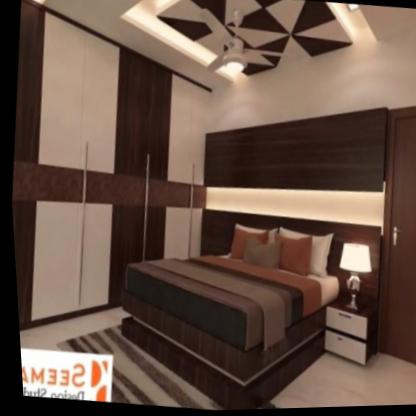Bed: (102, 200, 342, 410)
Closet: (5, 5, 141, 332)
Lamp: (328, 239, 379, 315)
Nightstand: (315, 294, 383, 373)
